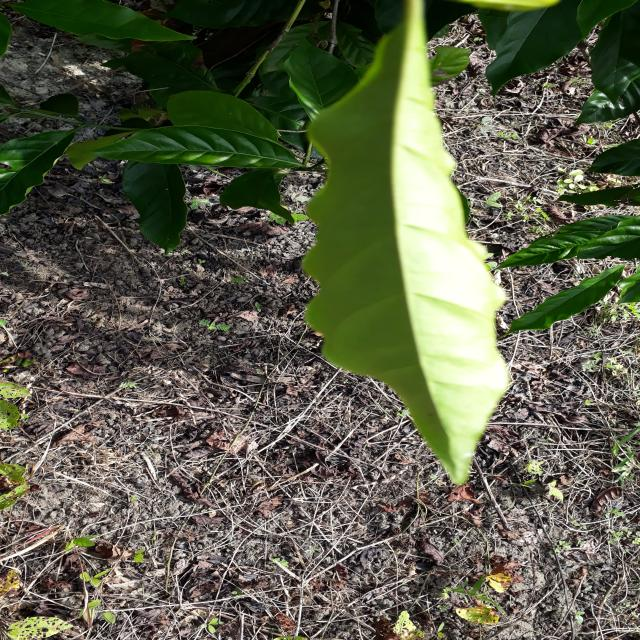Sanas: (304, 21, 512, 488)
